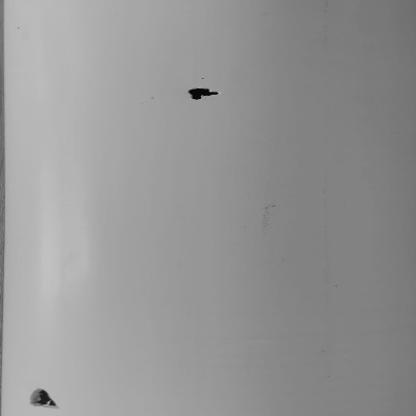kongdong: (179, 81, 231, 106), (24, 383, 66, 411)
